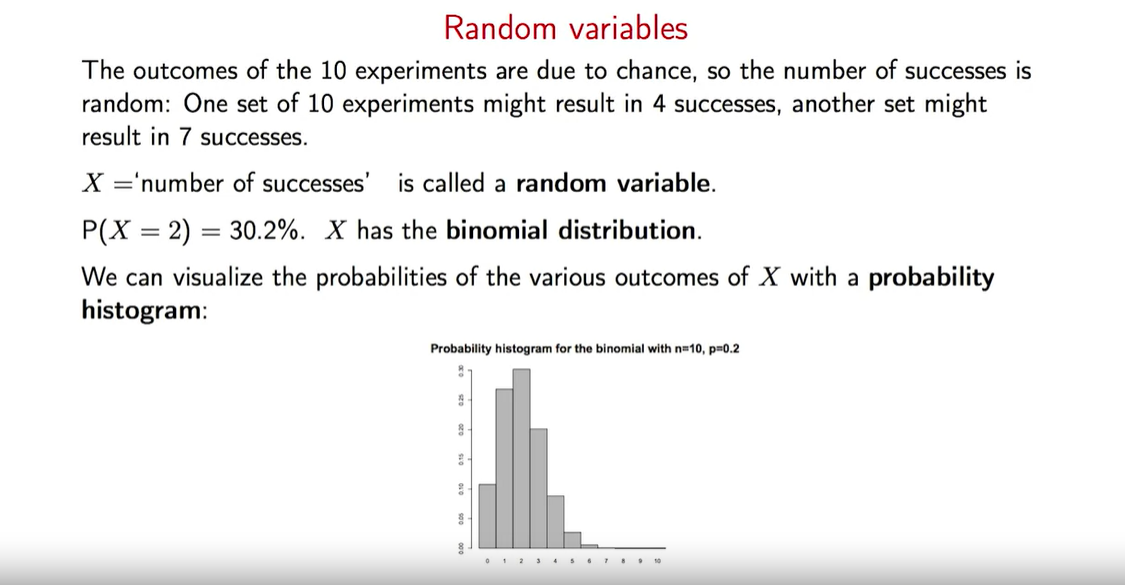equation: (79, 171, 373, 199), (73, 216, 301, 244)
figure: (422, 339, 742, 565)
text: (79, 59, 1033, 152), (77, 266, 996, 325), (395, 169, 716, 199), (325, 216, 699, 240), (446, 12, 693, 44)
